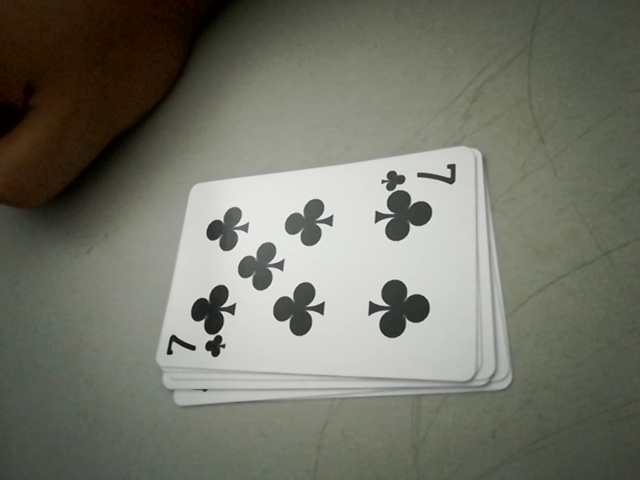mh 7: (380, 158, 463, 193), (160, 333, 228, 367)
